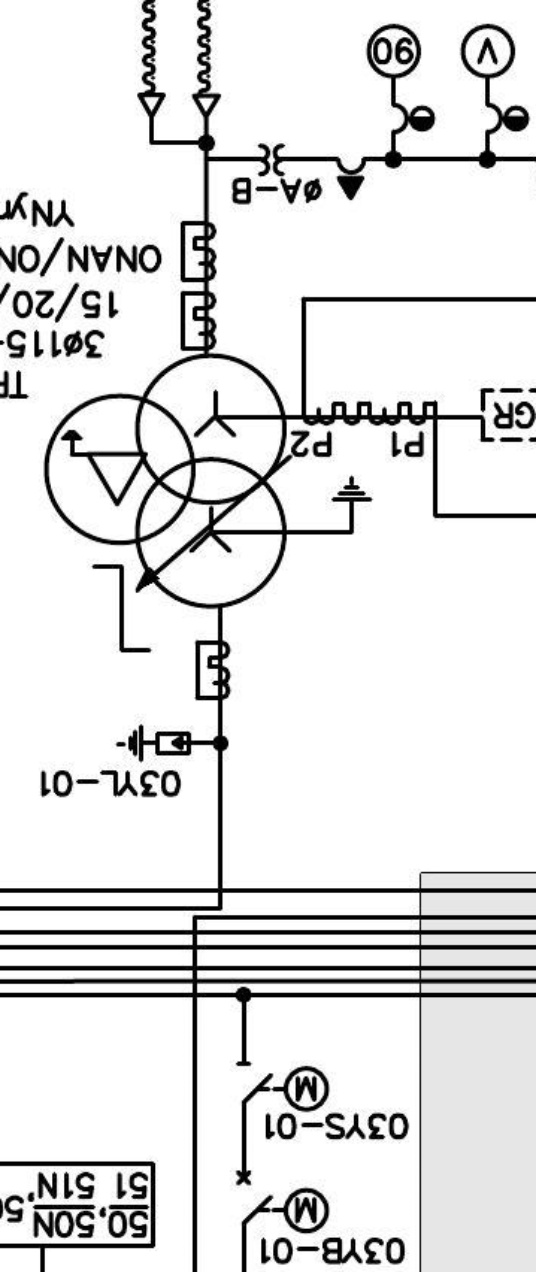11522_tx_ynyn0d1: (42, 352, 288, 610)
115_1way_ds_w_motor: (235, 1061, 331, 1113)
115_breaker: (235, 1169, 274, 1224)
115_la: (115, 723, 192, 763)
terminator_double: (136, 92, 222, 146)
v_m: (459, 22, 517, 80)
